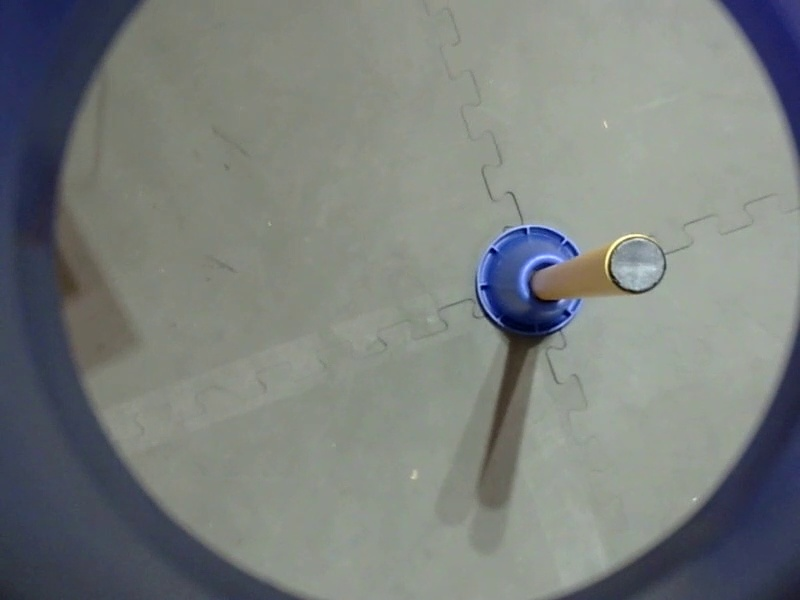tip: (601, 229, 674, 298)
